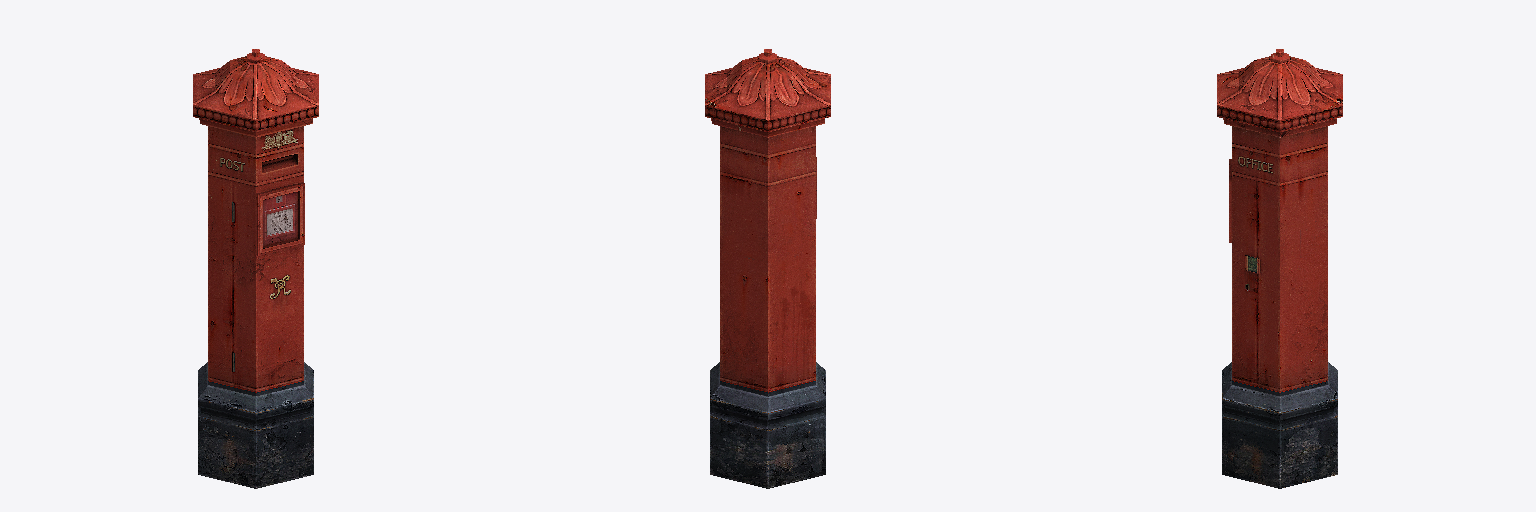
3 renders of one model, left to right at view 1: azimuth 30°, elevation 25°; view 2: azimuth 150°, elevation 25°; view 3: azimuth 270°, elevation 25°, orthographic.
Parts seen in each view (by area): view 1: PostBox01_(1).001; view 2: PostBox01_(1).001; view 3: PostBox01_(1).001.
Part boxes in pixels (x1,y1,x2,y2): PostBox01_(1).001: (193, 49, 318, 488); PostBox01_(1).001: (705, 49, 830, 488); PostBox01_(1).001: (1217, 49, 1342, 488).
Size of the model in its own units: 44.31 by 138 by 38.44.
2 materials, 1 textured.